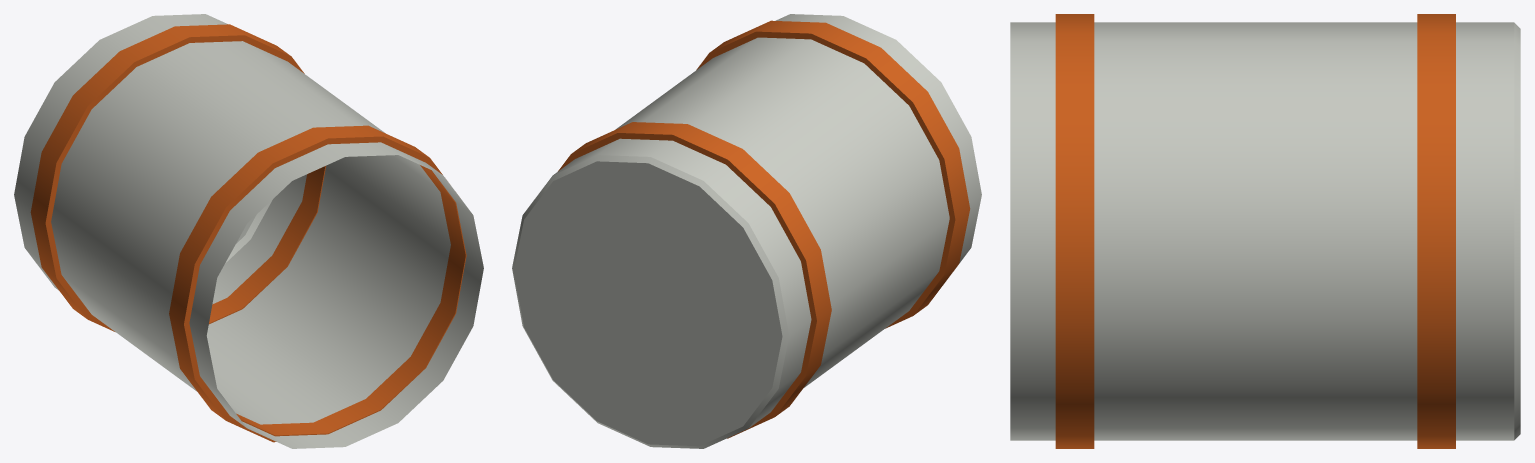
The model's file is u73l_housing.obj.
The picture shows the model from 3 angles, left to right: view 1: azimuth 30°, elevation 25°; view 2: azimuth 150°, elevation 25°; view 3: azimuth 270°, elevation 25°; orthographic projection. The views are drawn at different scales.
Visible parts, largest first — view 1: u73l_housing; view 2: u73l_housing; view 3: u73l_housing.
Boxes of the visible parts, x1,y1,x2,y2 form: u73l_housing: [14, 14, 483, 448]; u73l_housing: [512, 14, 981, 448]; u73l_housing: [1010, 14, 1520, 448].
Size of the model in its own units: 3.37 by 3.37 by 3.95.
